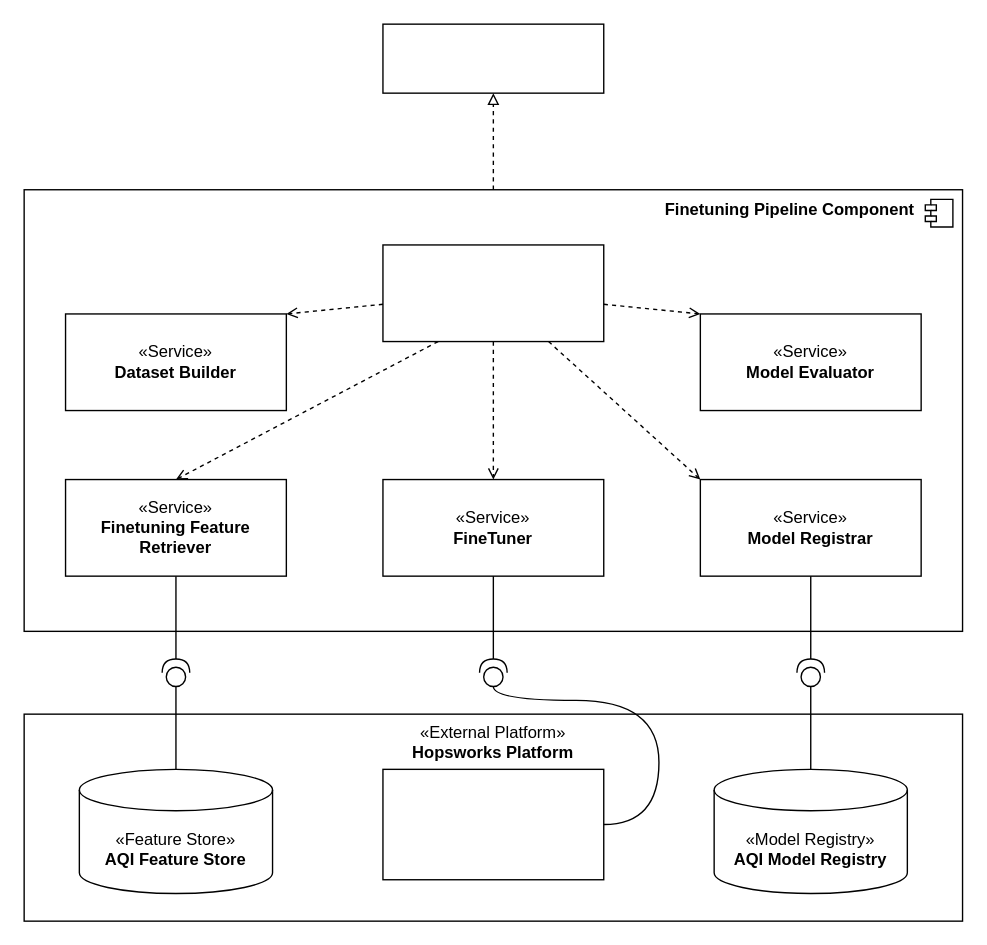
Image size: 987x945. Some labels were removed from this diagram. The shapes that lost their labels are listed below. From the top down, each one's centre as x and y in pixels, then its label:
At (493,58): "«interface» Finetuning Interface".
At (493,293): "«Controller» Pipeline Orchestrator".
At (493,824): "«External Service» MLflow Tracking Server".
